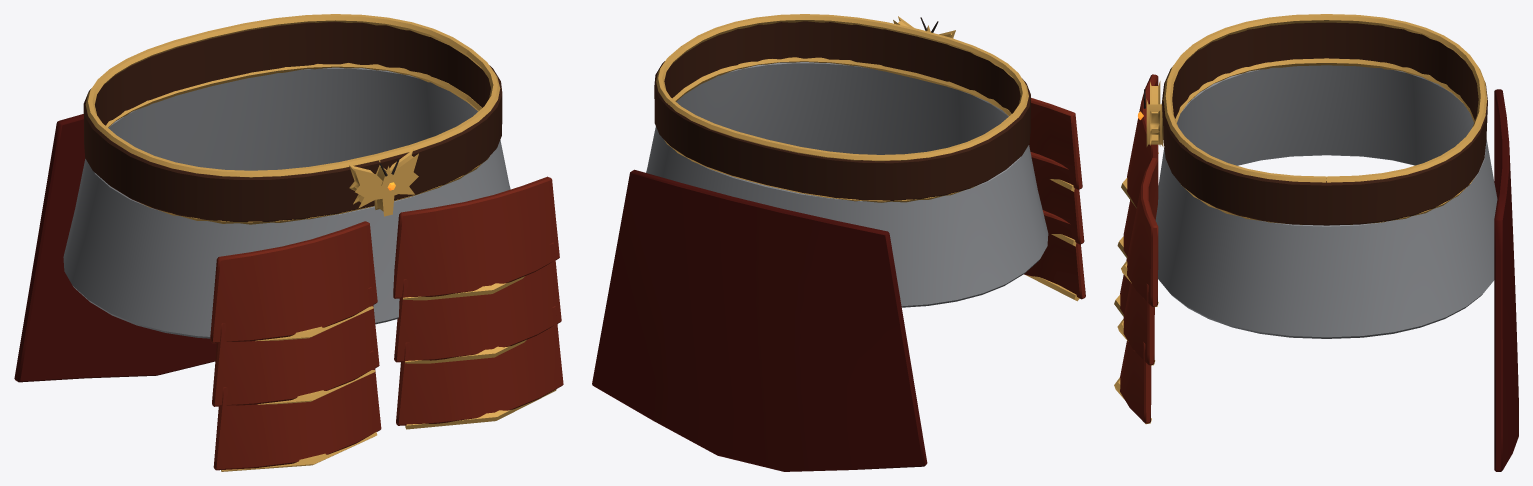
File: boss_dragonforge_inner_garment.glb
3 renders of one model, left to right at view 1: azimuth 30°, elevation 25°; view 2: azimuth 150°, elevation 25°; view 3: azimuth 270°, elevation 25°, orthographic. The views are drawn at different scales.
Parts seen in each view (by area): view 1: boss_dragonforge_inner_garment, AT_thigh_L, AT_thigh_R; view 2: boss_dragonforge_inner_garment, AT_thigh_R; view 3: boss_dragonforge_inner_garment, AT_thigh_L, AT_thigh_R.
Part boxes in pixels (bbox=[...]): boss_dragonforge_inner_garment: bbox=[14, 14, 510, 382]; AT_thigh_L: bbox=[393, 176, 563, 429]; AT_thigh_R: bbox=[210, 221, 381, 471]; boss_dragonforge_inner_garment: bbox=[592, 14, 1048, 471]; AT_thigh_R: bbox=[1024, 98, 1085, 301]; boss_dragonforge_inner_garment: bbox=[1138, 14, 1518, 471]; AT_thigh_L: bbox=[1114, 158, 1158, 424]; AT_thigh_R: bbox=[1114, 74, 1158, 316].
Bounding box in the file's own units: 0.5145 × 0.4211 × 0.4717.
